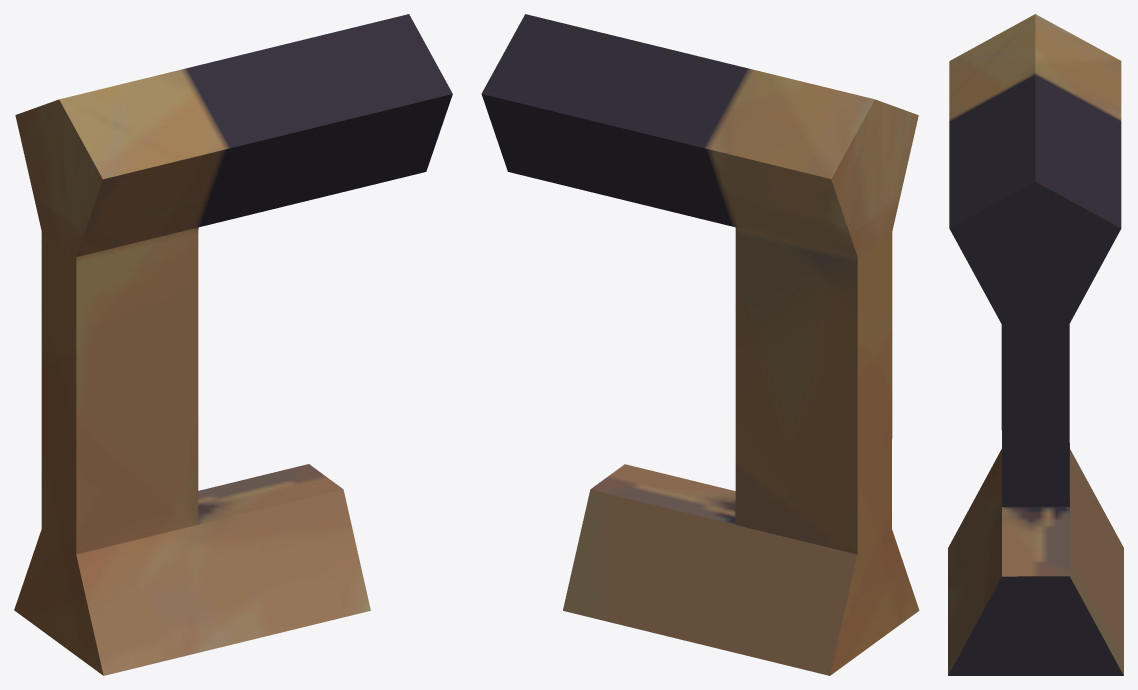
File: Accelerator.fbx
3 views of the same model, side by side, from view 1: azimuth 30°, elevation 25°; view 2: azimuth 150°, elevation 25°; view 3: azimuth 270°, elevation 25° (orthographic).
Parts seen in each view (by area): view 1: Cube.001; view 2: Cube.001; view 3: Cube.001.
Boxes of the visible parts, x1,y1,x2,y2 form: Cube.001: [14, 14, 452, 675]; Cube.001: [481, 14, 919, 675]; Cube.001: [948, 14, 1123, 675].
Bounding box in the file's own units: 0.0375 × 0.0558 × 0.0166.
Materials: 1 (1 with a texture image).
